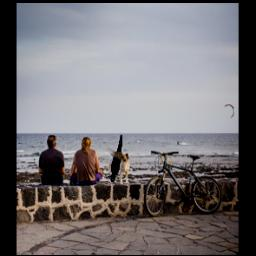Crow: (108, 135, 123, 183)
